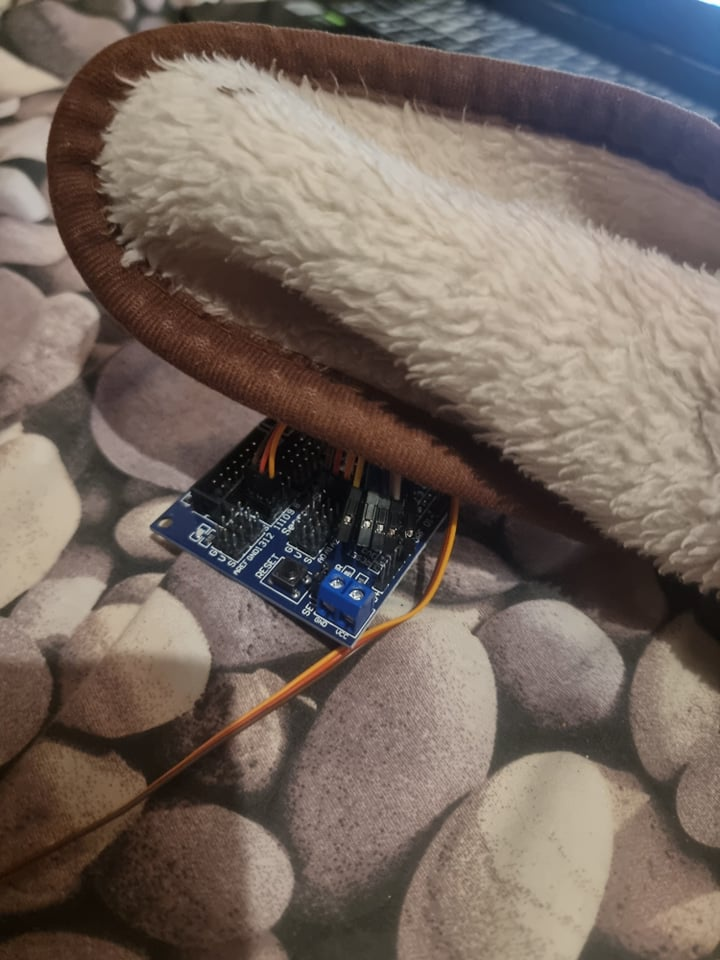5V EXPANSION: (151, 405, 453, 651)
